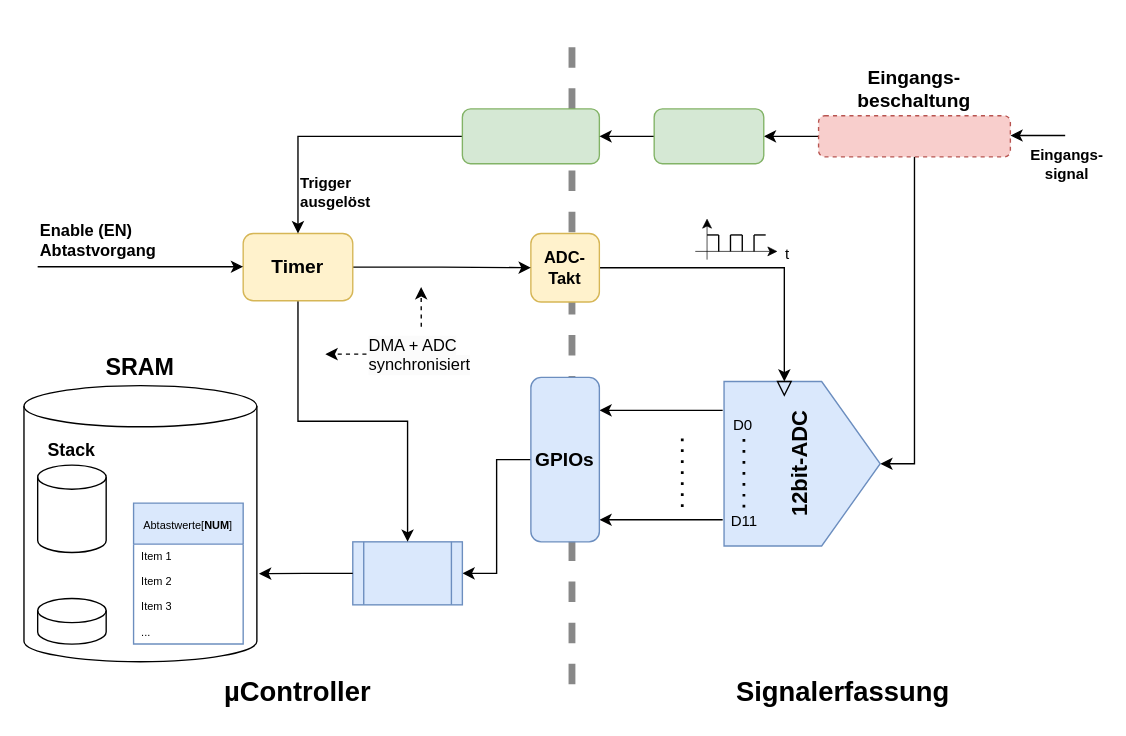
This 1126x736 diagram has some shape labels left out. The centre of each missing label's shape, as x and y in pixels:
"DMA" belongs at (x=406, y=572).
"Erfassung Triggerereignis" belongs at (x=530, y=136).
"Heap" belongs at (x=71, y=620).
"Trigger- schaltung" belongs at (x=708, y=136).
